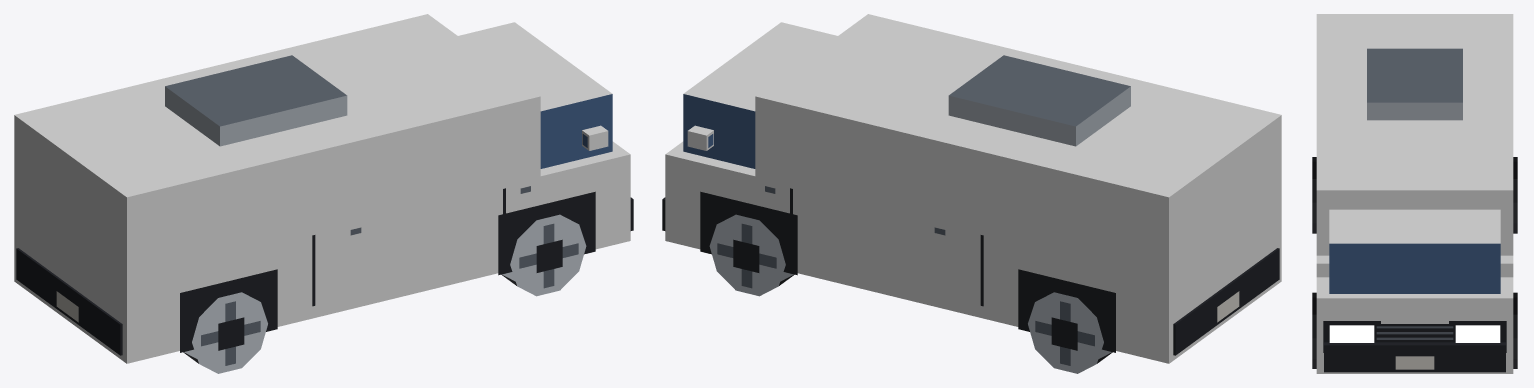
The model's file is van_delivery.glb.
The picture shows the model from 3 angles, left to right: view 1: azimuth 30°, elevation 25°; view 2: azimuth 150°, elevation 25°; view 3: azimuth 270°, elevation 25°; orthographic projection. The views are drawn at different scales.
Visible parts, largest first — view 1: van_delivery; view 2: van_delivery; view 3: van_delivery.
Part boxes in pixels (x1=…): van_delivery: x1=14, y1=14, x2=633, y2=373; van_delivery: x1=662, y1=14, x2=1281, y2=373; van_delivery: x1=1312, y1=14, x2=1517, y2=373.
Bounding box in the file's own units: 0.4856 × 0.195 × 0.1964.
